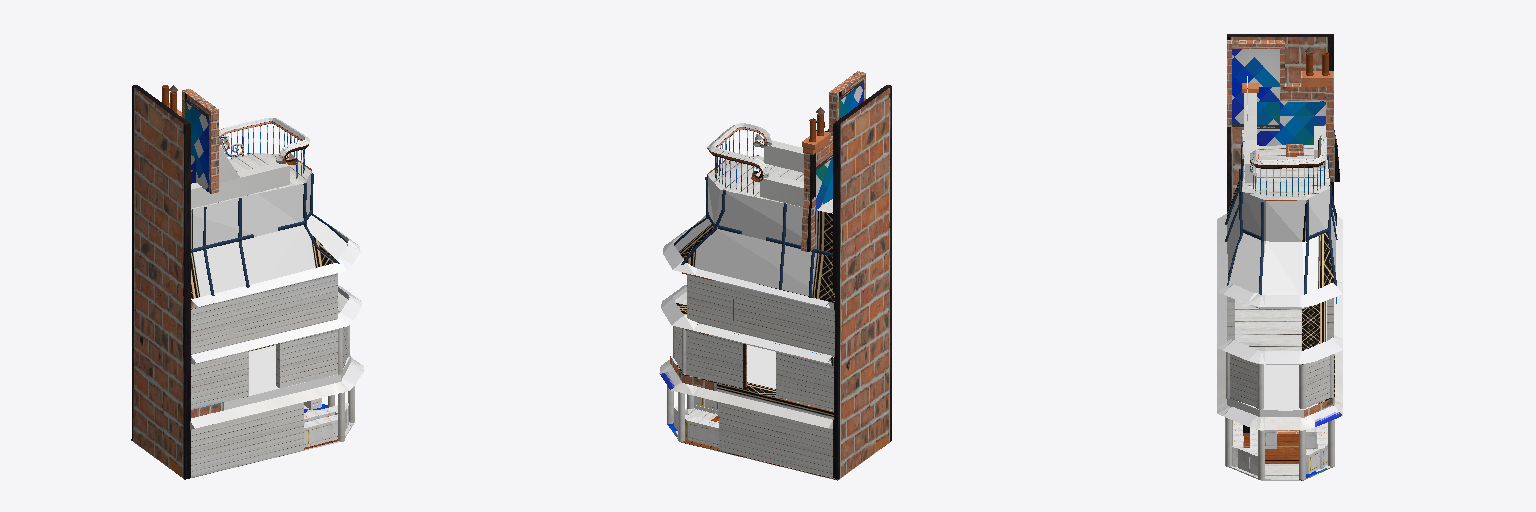
3 renders of one model, left to right at view 1: azimuth 30°, elevation 25°; view 2: azimuth 150°, elevation 25°; view 3: azimuth 270°, elevation 25°, orthographic.
Visible parts, largest first — view 1: CasaTotal; view 2: CasaTotal; view 3: CasaTotal.
Boxes of the visible parts, x1=… form: CasaTotal: x1=131, y1=85, x2=363, y2=479; CasaTotal: x1=659, y1=71, x2=891, y2=480; CasaTotal: x1=1217, y1=34, x2=1342, y2=480.
Bounding box in the file's own units: 68.34 × 122 × 38.24.
12 materials, 7 textured.